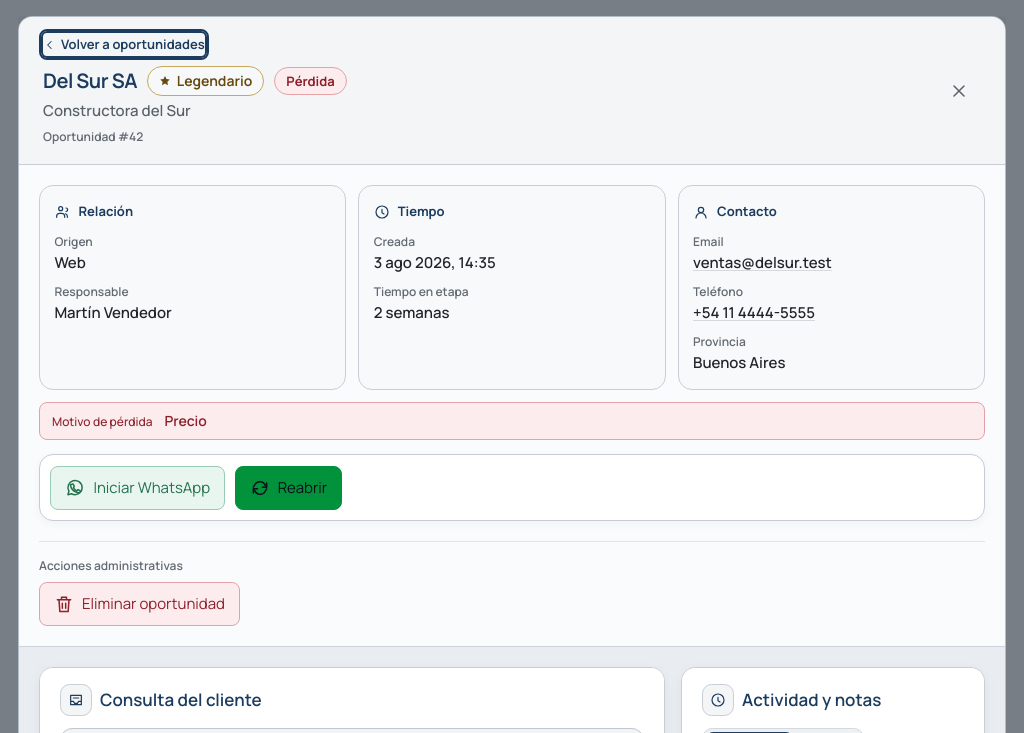
OpportunityDetailPage › shows Reopen only for a lost opportunity with a retained quote and routes after success
Click the button "Reabrir": (288,488) 235,466 -> 342,510
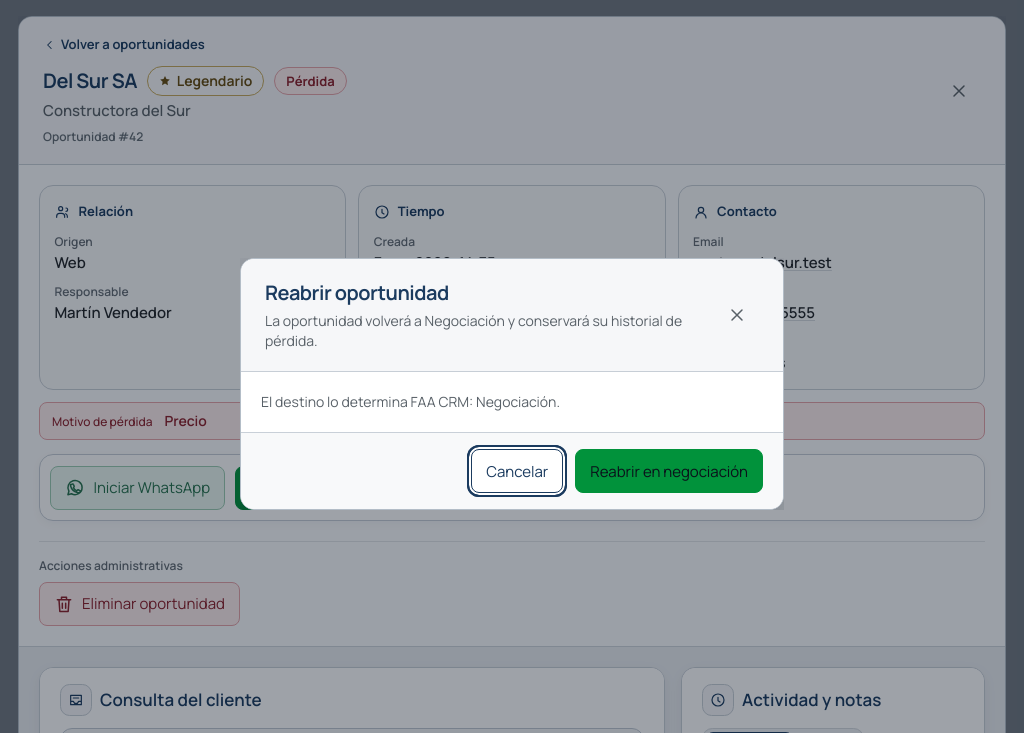
Check: the heading "Reabrir oportunidad" is shown, box 265,279 -> 449,306
Click the button "Reabrir en negociación": (669,471) 575,449 -> 763,493
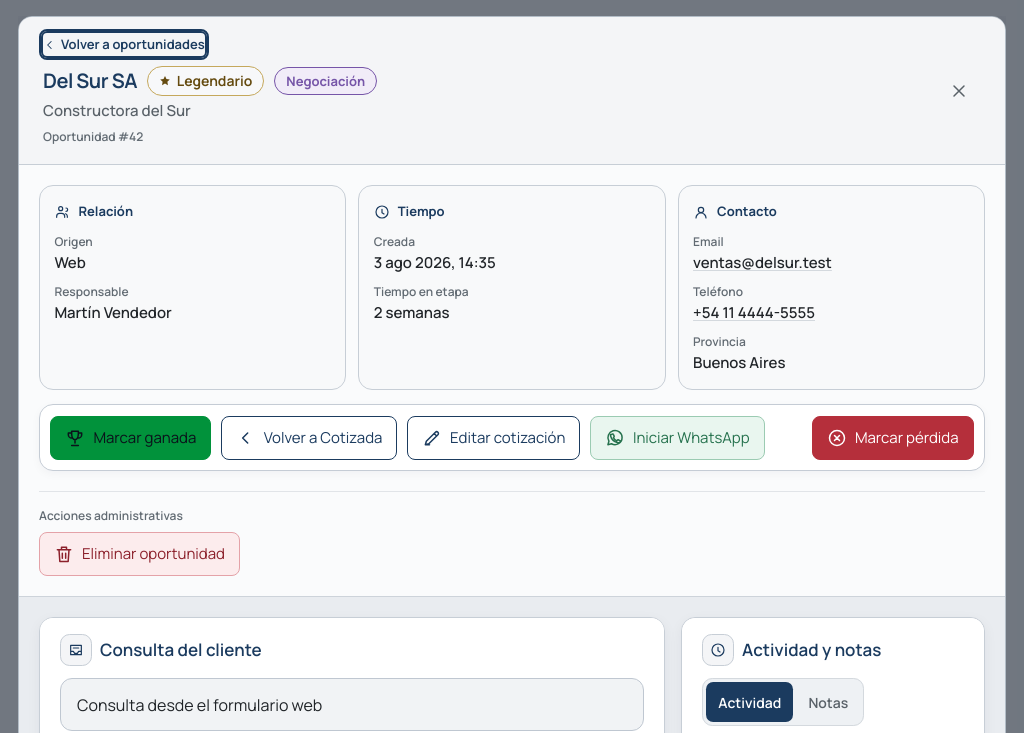
Check: the heading "Reabrir oportunidad" is gone
